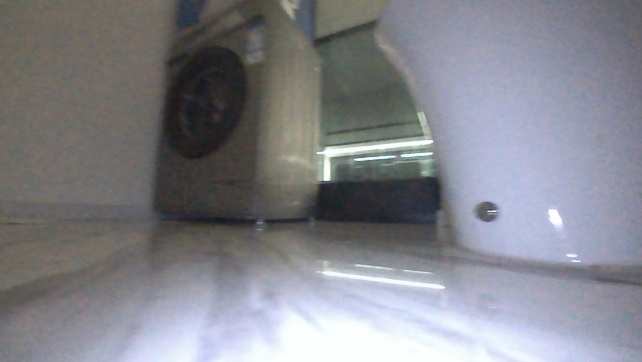toilet: (365, 2, 641, 296)
washing_machine: (149, 4, 337, 225)
